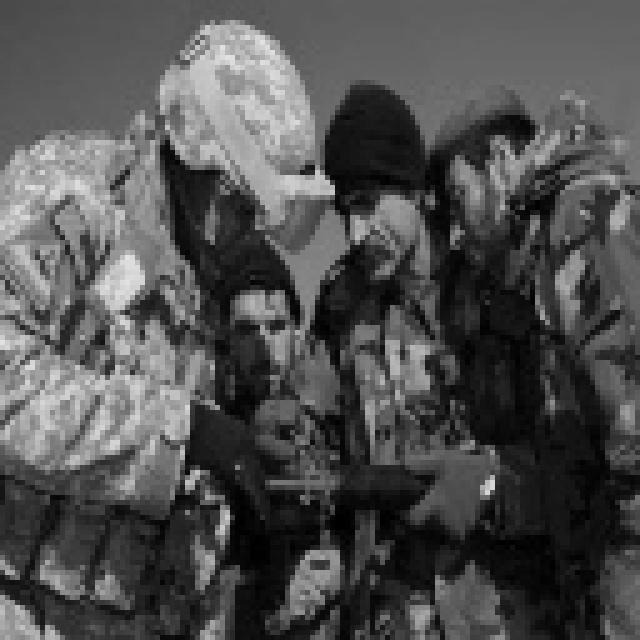Rifle: (216, 429, 444, 568)
